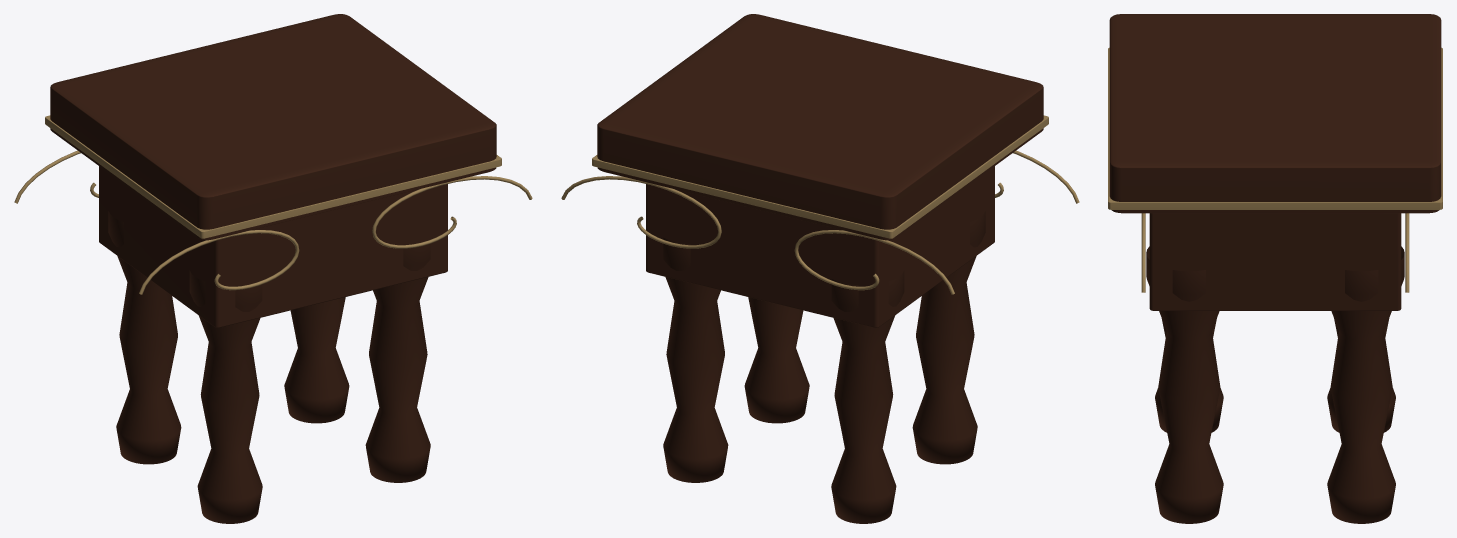
The model's file is Side_Table.fbx.
The picture shows the model from 3 angles, left to right: view 1: azimuth 30°, elevation 25°; view 2: azimuth 150°, elevation 25°; view 3: azimuth 270°, elevation 25°; orthographic projection. The views are drawn at different scales.
Parts seen in each view (by area): view 1: Solid tabletop.003, Apron.003, Turned leg.024, Turned leg.026, Turned leg.025, Turned leg.027, Gold table edge.003, Gilded scroll.026, Gilded scroll.027; view 2: Solid tabletop.003, Apron.003, Turned leg.025, Turned leg.027, Turned leg.024, Turned leg.026, Gold table edge.003, Gilded scroll.028, Gilded scroll.029; view 3: Solid tabletop.003, Apron.003, Turned leg.026, Turned leg.027, Gold table edge.003, Turned leg.024, Turned leg.025, Gilded scroll.027, Gilded scroll.029.
Boxes of the visible parts, box(x1,y1,x2,y2) form: Solid tabletop.003: box(50, 14, 496, 240); Apron.003: box(99, 166, 447, 327); Turned leg.024: box(189, 270, 262, 523); Turned leg.026: box(365, 237, 430, 482); Turned leg.025: box(108, 211, 181, 464); Turned leg.027: box(284, 297, 349, 423); Gold table edge.003: box(45, 115, 501, 238); Gilded scroll.026: box(139, 230, 299, 294); Gilded scroll.027: box(372, 176, 532, 248); Solid tabletop.003: box(597, 14, 1043, 240); Apron.003: box(646, 166, 994, 327); Turned leg.025: box(831, 270, 904, 523); Turned leg.027: box(663, 237, 728, 482); Turned leg.024: box(912, 211, 985, 464); Turned leg.026: box(744, 297, 809, 423); Gold table edge.003: box(592, 115, 1048, 238); Gilded scroll.028: box(794, 230, 954, 294); Gilded scroll.029: box(561, 176, 721, 248); Solid tabletop.003: box(1109, 14, 1441, 213); Apron.003: box(1149, 213, 1401, 310); Turned leg.026: box(1146, 246, 1223, 523); Turned leg.027: box(1327, 246, 1404, 523); Gold table edge.003: box(1108, 47, 1442, 209); Turned leg.024: box(1155, 318, 1223, 432); Turned leg.025: box(1327, 318, 1395, 432); Gilded scroll.027: box(1141, 213, 1145, 292); Gilded scroll.029: box(1405, 213, 1409, 292).
Size of the model in its own units: 0.7254 by 0.63 by 0.505.
